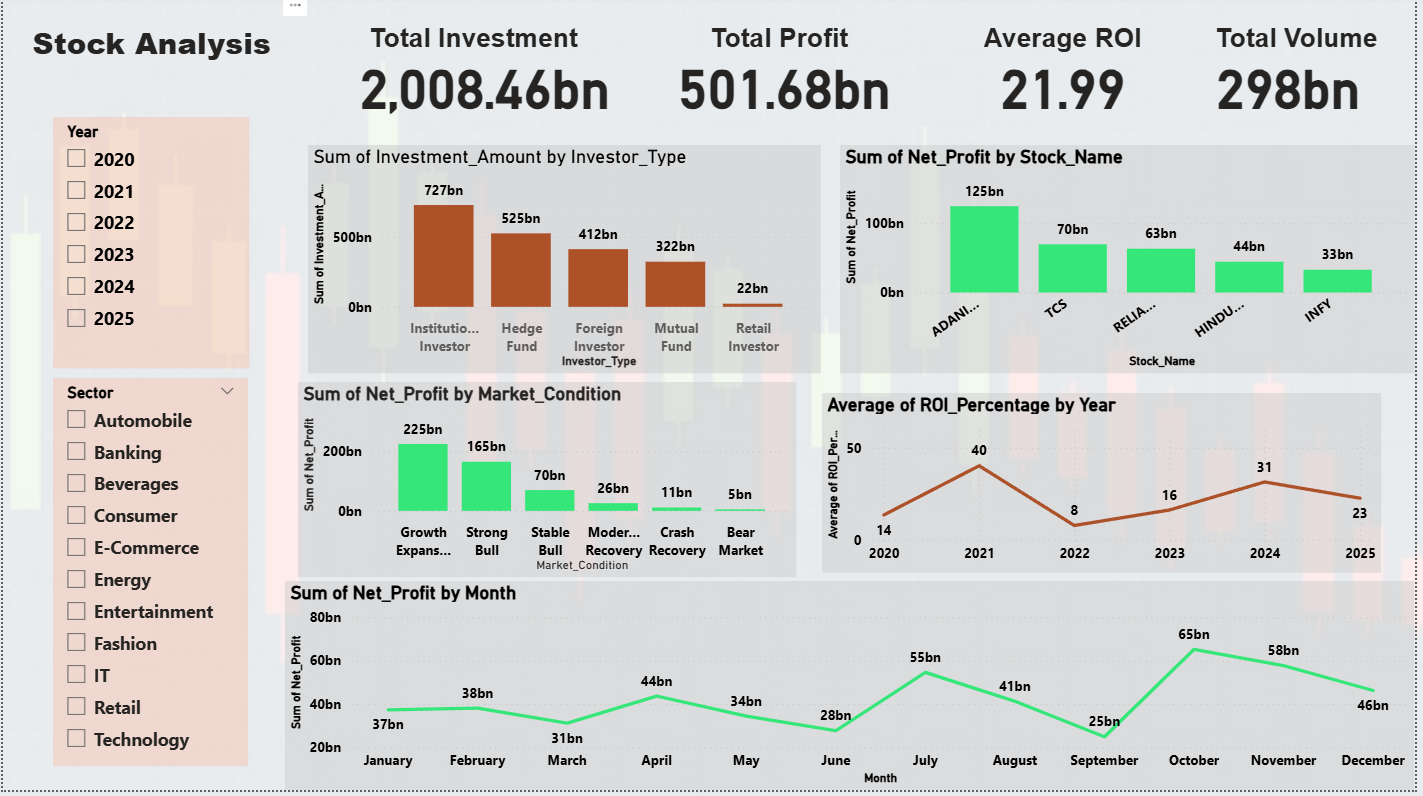

What the dashboard file says about the page in this screenshot:
{"tool":"powerbi","page":{"name":"Page 1","canvas":[1280,720],"ordinal":0},"visuals":[{"type":"textbox","box":[21.4,19.5,254.8,71],"z":0},{"type":"card","fields":{"Values":["Sum(realistic_stock_market_dataset_.Investment_Amount)"]},"box":[300.5,19.5,273.3,119.6],"z":1000},{"type":"textbox","box":[327.8,19.5,215.9,39.9],"z":2000},{"type":"card","fields":{"Values":["Sum(realistic_stock_market_dataset_.Net_Profit)"]},"box":[587.5,19.5,240.2,119.6],"z":3000},{"type":"textbox","box":[599.1,19.5,209.1,39.9],"z":4000},{"type":"card","fields":{"Values":["Avg(realistic_stock_market_dataset_.ROI_Percentage)"]},"box":[870.5,19.5,180.9,119.6],"z":5000},{"type":"textbox","box":[870.5,19.5,180.9,39.9],"z":6000},{"type":"card","fields":{"Values":["Sum(realistic_stock_market_dataset_.Trading_Volume)"]},"box":[1051.4,19.5,228.6,119.6],"z":7000},{"type":"textbox","box":[1094.2,19.5,185.8,39.9],"z":8000},{"type":"lineChart","fields":{"Category":["realistic_stock_market_dataset_.Trade_Date.Variation.Date Hierarchy.Month"],"Y":["Sum(realistic_stock_market_dataset_.Net_Profit)"]},"box":[255.8,530.1,1024.2,189.7],"z":9000},{"type":"columnChart","fields":{"Y":["Sum(realistic_stock_market_dataset_.Investment_Amount)"],"Category":["realistic_stock_market_dataset_.Investor_Type"]},"box":[276.6,135.1,465.2,206.8],"z":10000},{"type":"columnChart","fields":{"Category":["realistic_stock_market_dataset_.Stock_Name"],"Y":["Sum(realistic_stock_market_dataset_.Net_Profit)"]},"box":[758.6,135.1,521.4,206.8],"z":11000},{"type":"columnChart","fields":{"Category":["realistic_stock_market_dataset_.Market_Condition"],"Y":["Sum(realistic_stock_market_dataset_.Net_Profit)"]},"box":[267.5,350,452.5,176.8],"z":12000},{"type":"lineChart","fields":{"Y":["Avg(realistic_stock_market_dataset_.ROI_Percentage)"],"Category":["realistic_stock_market_dataset_.Trade_Date.Variation.Date Hierarchy.Year"]},"box":[742.7,360,506.9,163.2],"z":13000},{"type":"slicer","fields":{"Values":["realistic_stock_market_dataset_.Trade_Date.Variation.Date Hierarchy.Year"]},"box":[45.3,109.7,177.7,227.6],"z":14000},{"type":"slicer","fields":{"Values":["realistic_stock_market_dataset_.Sector"]},"box":[45.7,346.3,177,352.1],"z":15000}]}

Visuals, with their boxes in screenshot pixels (x1, y1, x2, y2), scaled from the page's 1280x720 canvas onto the 1423x796 screenshot:
textbox: [x1=24, y1=22, x2=307, y2=100]
card - Sum(realistic_stock_market_dataset_.Investment_Amount): [x1=334, y1=22, x2=638, y2=154]
textbox: [x1=364, y1=22, x2=604, y2=66]
card - Sum(realistic_stock_market_dataset_.Net_Profit): [x1=653, y1=22, x2=920, y2=154]
textbox: [x1=666, y1=22, x2=898, y2=66]
card - Avg(realistic_stock_market_dataset_.ROI_Percentage): [x1=968, y1=22, x2=1169, y2=154]
textbox: [x1=968, y1=22, x2=1169, y2=66]
card - Sum(realistic_stock_market_dataset_.Trading_Volume): [x1=1169, y1=22, x2=1422, y2=154]
textbox: [x1=1216, y1=22, x2=1422, y2=66]
lineChart - realistic_stock_market_dataset_.Trade_Date.Variation.Date Hierarchy.Month x Sum(realistic_stock_market_dataset_.Net_Profit): [x1=284, y1=586, x2=1422, y2=795]
columnChart - Sum(realistic_stock_market_dataset_.Investment_Amount) x realistic_stock_market_dataset_.Investor_Type: [x1=308, y1=149, x2=825, y2=378]
columnChart - realistic_stock_market_dataset_.Stock_Name x Sum(realistic_stock_market_dataset_.Net_Profit): [x1=843, y1=149, x2=1422, y2=378]
columnChart - realistic_stock_market_dataset_.Market_Condition x Sum(realistic_stock_market_dataset_.Net_Profit): [x1=297, y1=387, x2=800, y2=582]
lineChart - Avg(realistic_stock_market_dataset_.ROI_Percentage) x realistic_stock_market_dataset_.Trade_Date.Variation.Date Hierarchy.Year: [x1=826, y1=398, x2=1389, y2=578]
slicer - realistic_stock_market_dataset_.Trade_Date.Variation.Date Hierarchy.Year: [x1=50, y1=121, x2=248, y2=373]
slicer - realistic_stock_market_dataset_.Sector: [x1=51, y1=383, x2=248, y2=772]
